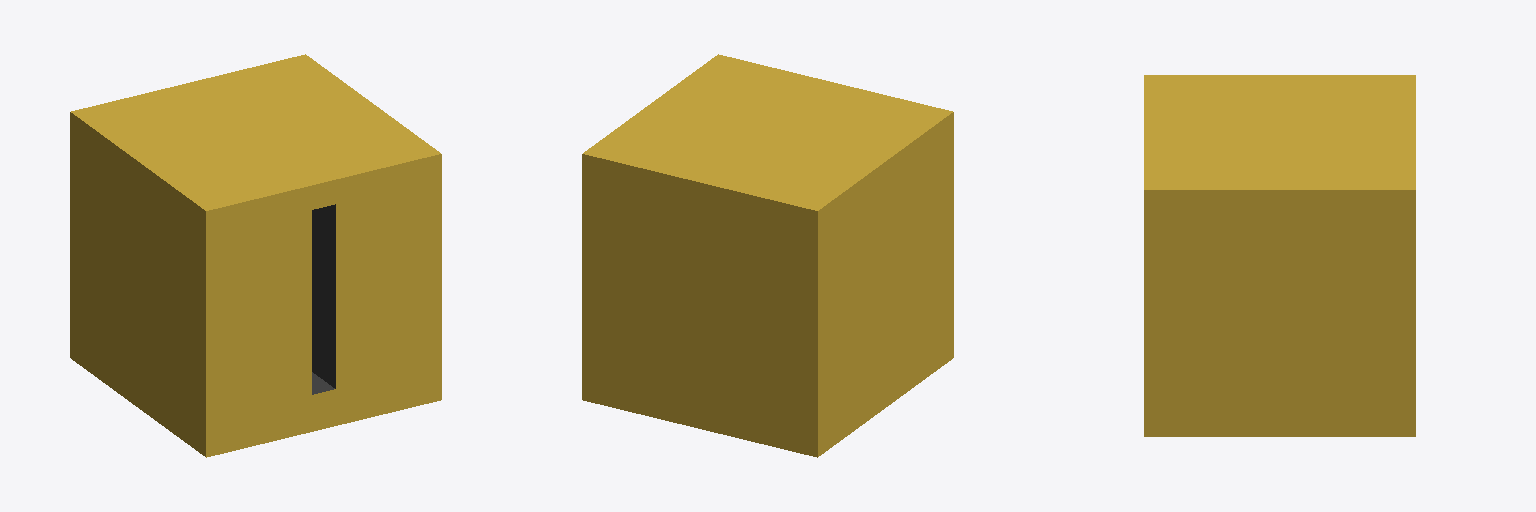
File: CubeI.obj
The picture shows the model from 3 angles: view 1: azimuth 30°, elevation 25°; view 2: azimuth 150°, elevation 25°; view 3: azimuth 270°, elevation 25°; orthographic projection.
Parts seen in each view (by area): view 1: Mesh1 Model; view 2: Mesh1 Model; view 3: Mesh1 Model.
Boxes of the visible parts, x1=… form: Mesh1 Model: x1=70, y1=54, x2=441, y2=457; Mesh1 Model: x1=582, y1=54, x2=953, y2=457; Mesh1 Model: x1=1144, y1=75, x2=1415, y2=436.
Size of the model in its own units: 2 by 2 by 2.